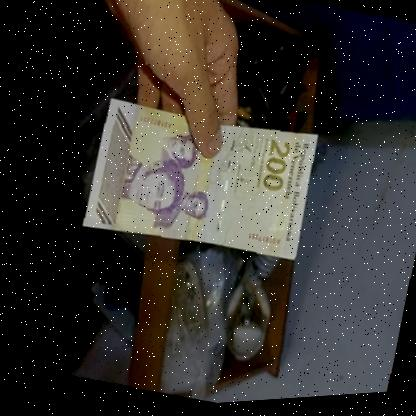two_hundred-front-vef: (73, 86, 324, 281)
